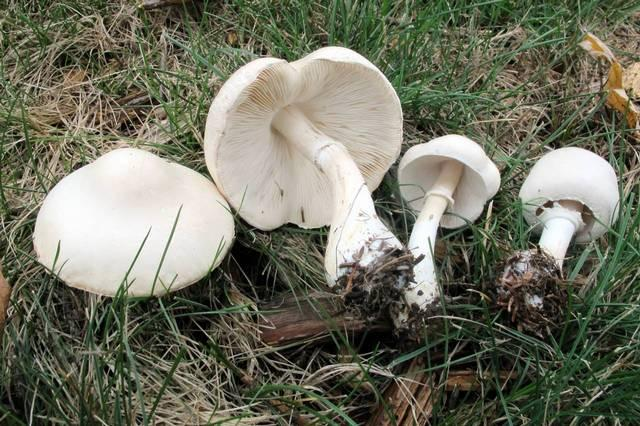Non-edible Mushroom: (202, 44, 408, 295), (31, 146, 236, 304), (389, 132, 501, 327), (517, 145, 621, 274)
